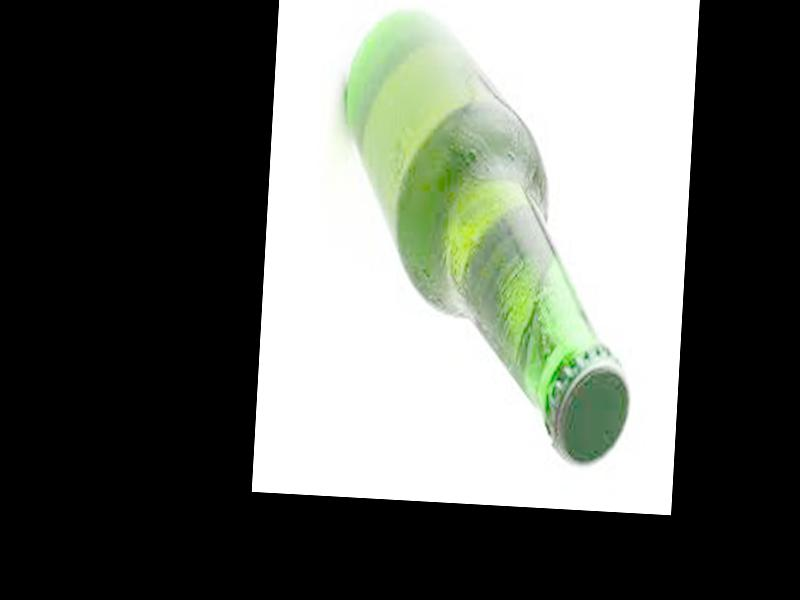Beer: (323, 4, 649, 468)
